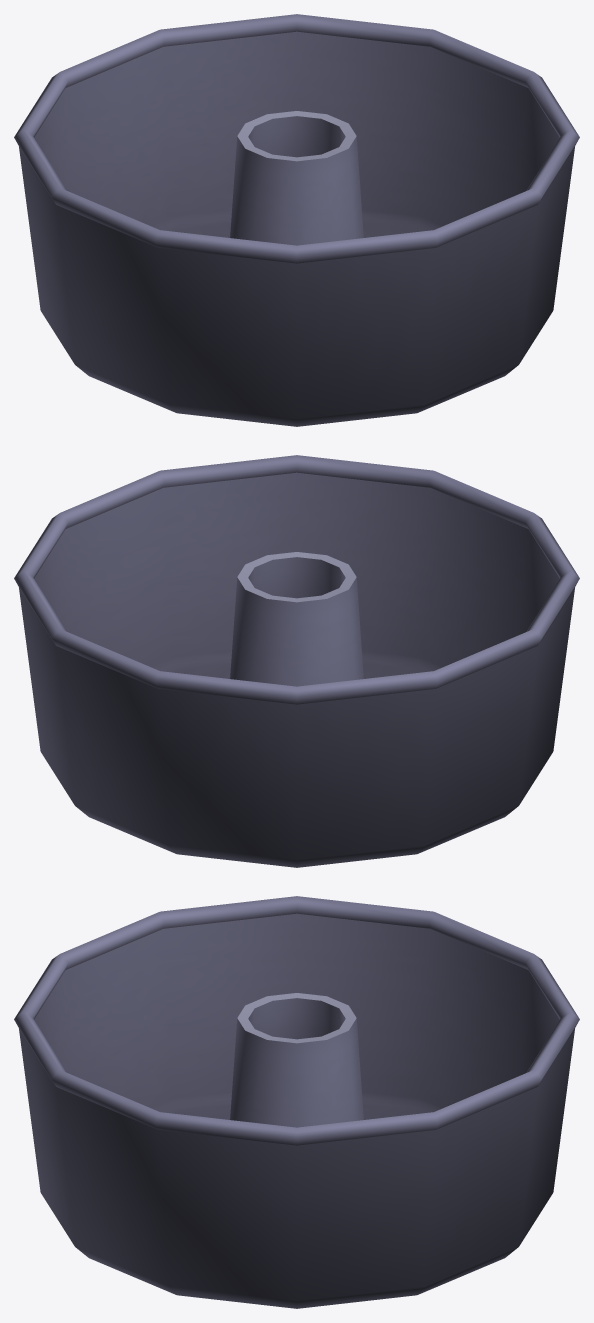
File: m_AngelFood_CakePan01.fbx
The picture shows the model from 3 angles, top to bottom: view 1: azimuth 30°, elevation 25°; view 2: azimuth 150°, elevation 25°; view 3: azimuth 270°, elevation 25°; orthographic projection.
Parts seen in each view (by area): view 1: m_AngelFood_CakePan01; view 2: m_AngelFood_CakePan01; view 3: m_AngelFood_CakePan01.
Boxes of the visible parts, x1,y1,x2,y2 form: m_AngelFood_CakePan01: (14, 14, 579, 426); m_AngelFood_CakePan01: (14, 455, 579, 867); m_AngelFood_CakePan01: (14, 896, 579, 1308).
Bounding box in the file's own units: 26.81 × 10.24 × 26.81.
